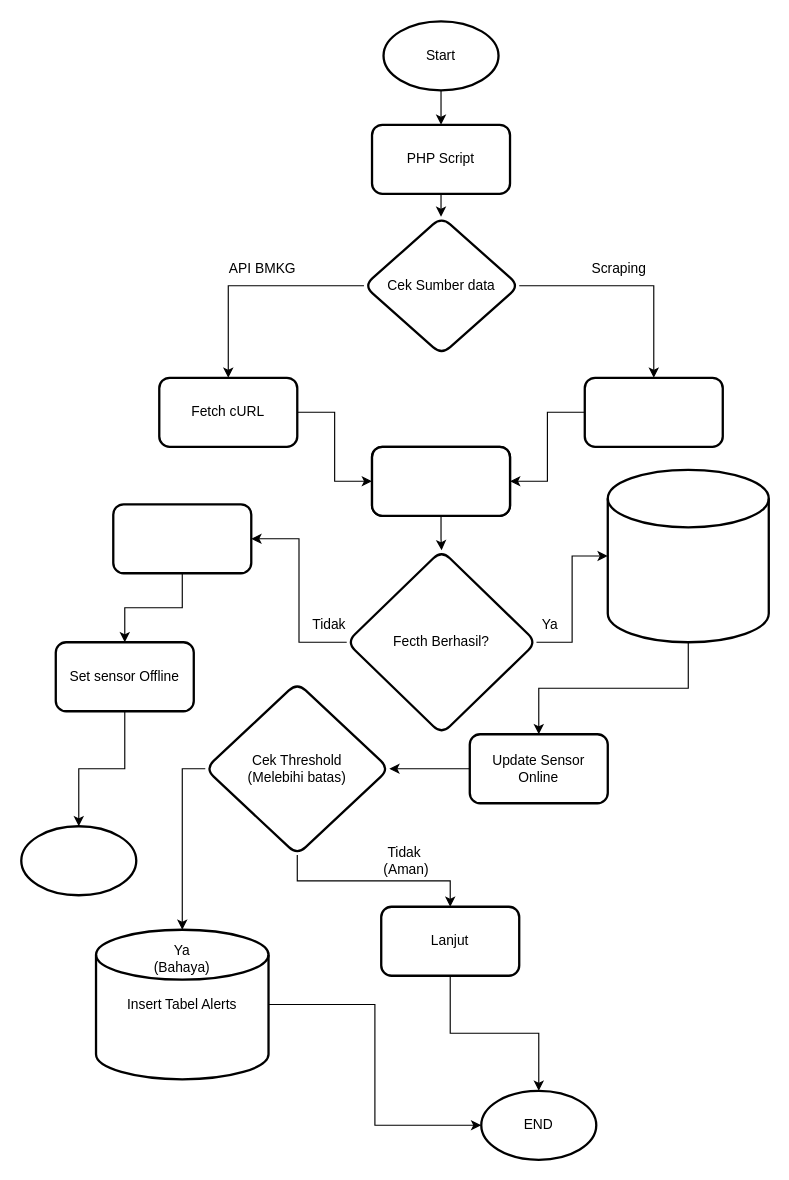
The diagram is 789 pixels wide and 1180 high, and some of its shapes have lost their labels. The shapes that lost their labels are listed below. From the top down, each one's centre as x and y in pixels, then its label:
At [653,411]: "Scrap HTML".
At [440,480]: "Normalisasi Data".
At [182,538]: "Log Error".
At [687,555]: "Simpan Ke Database".
At [78,860]: "End : Gagal".
